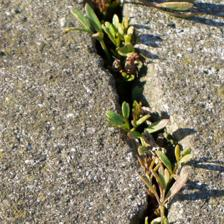Crack: (76, 6, 198, 223)
